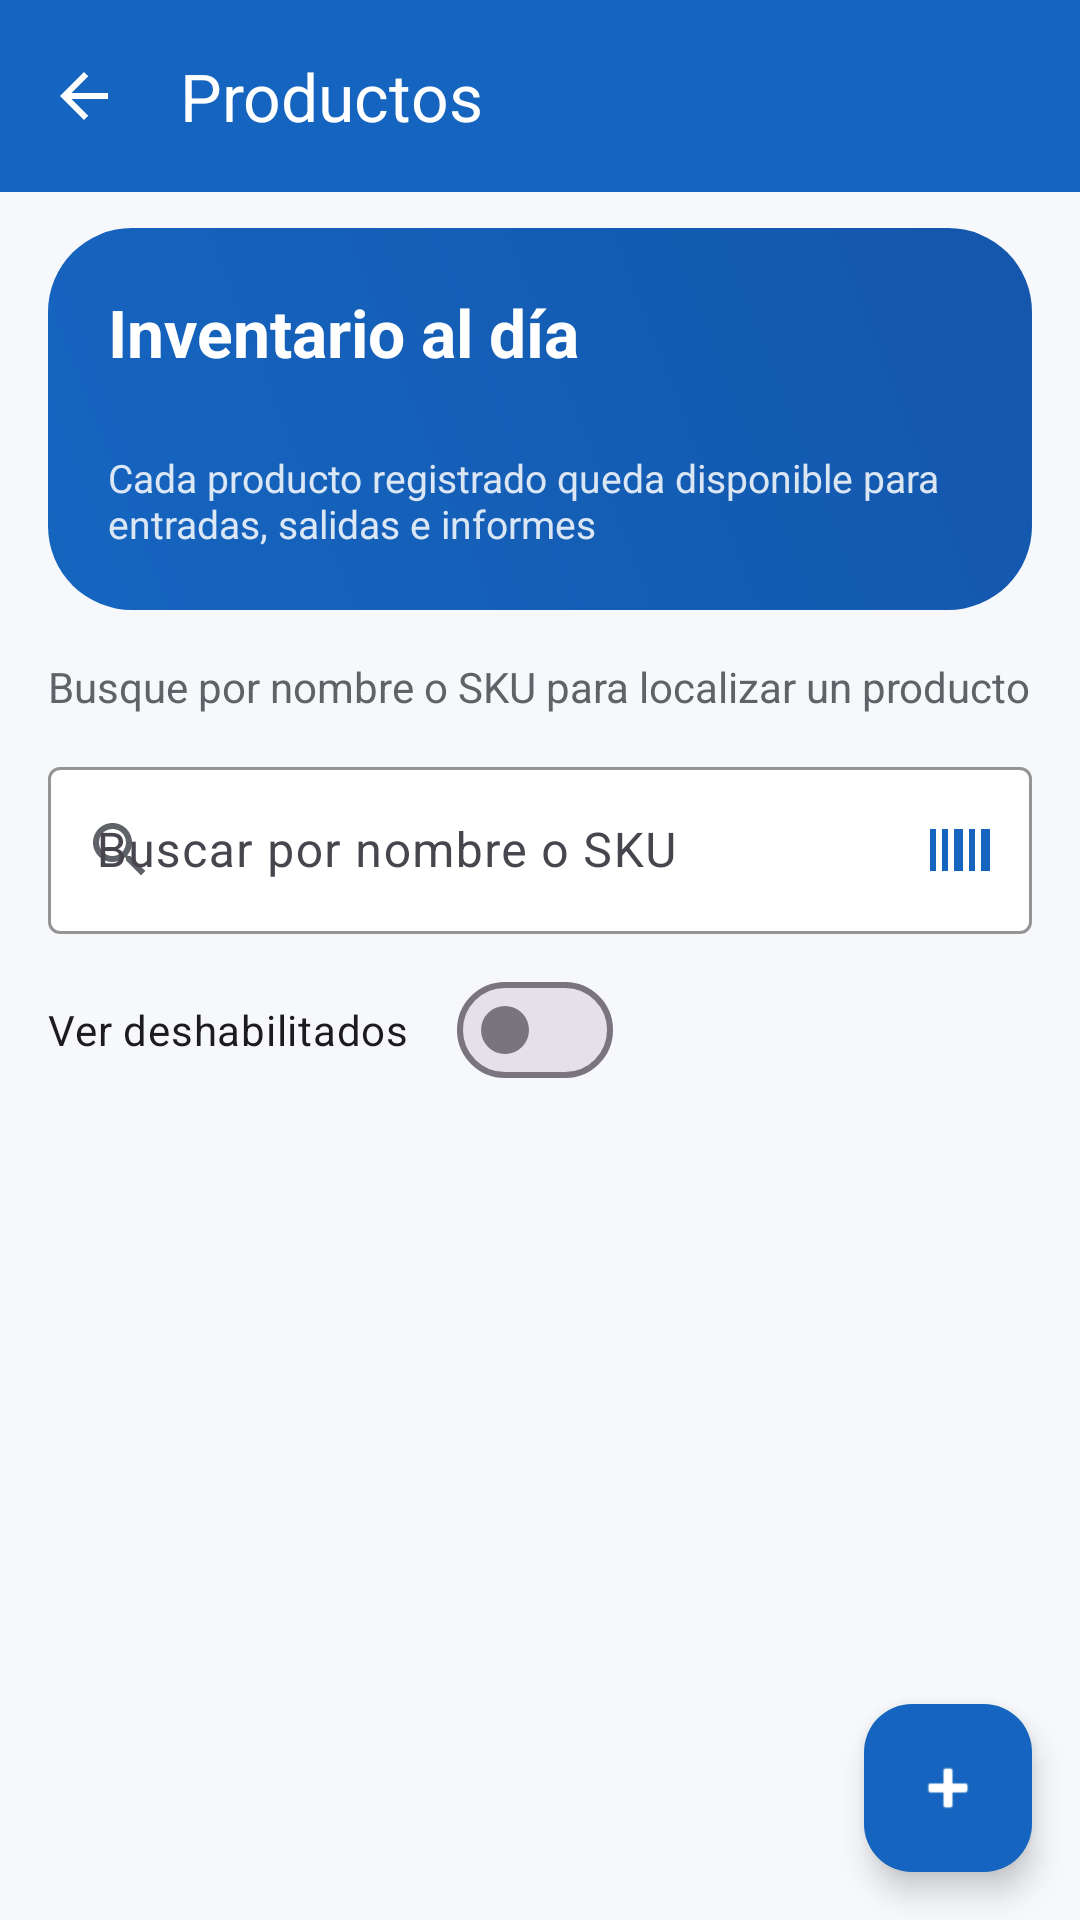

Screen size 1080*1920. Icon name, then its box in pixels as (x1, y1, x2, y2):
Agregar producto: (864, 1704, 1032, 1872)
